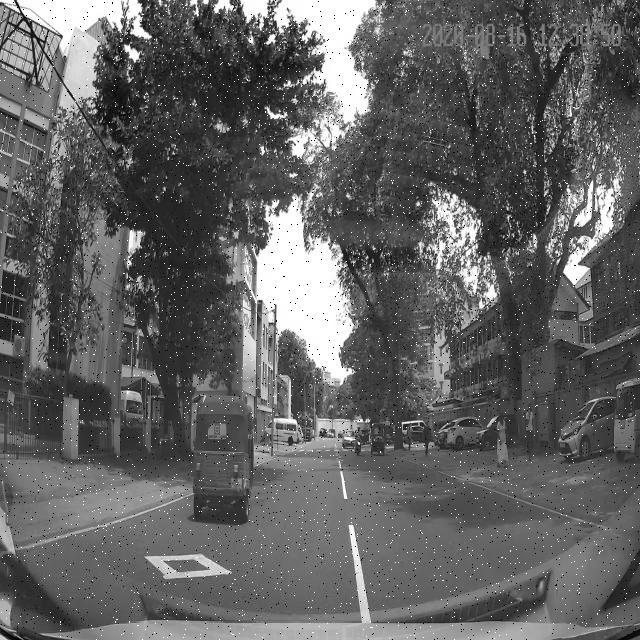diamond: (10, 528, 369, 622)
